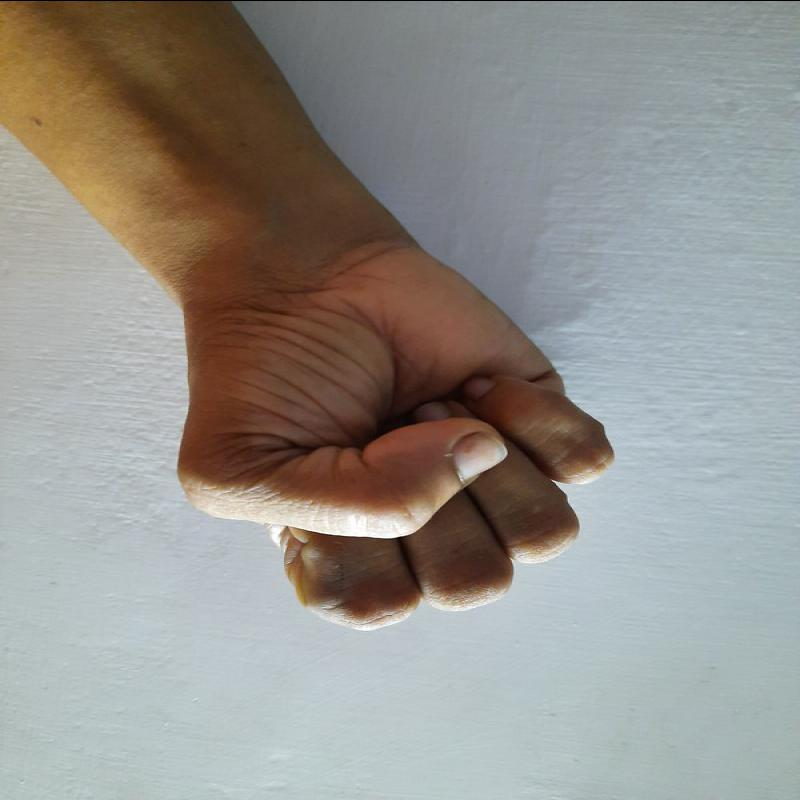Mushti: (165, 231, 621, 645)
